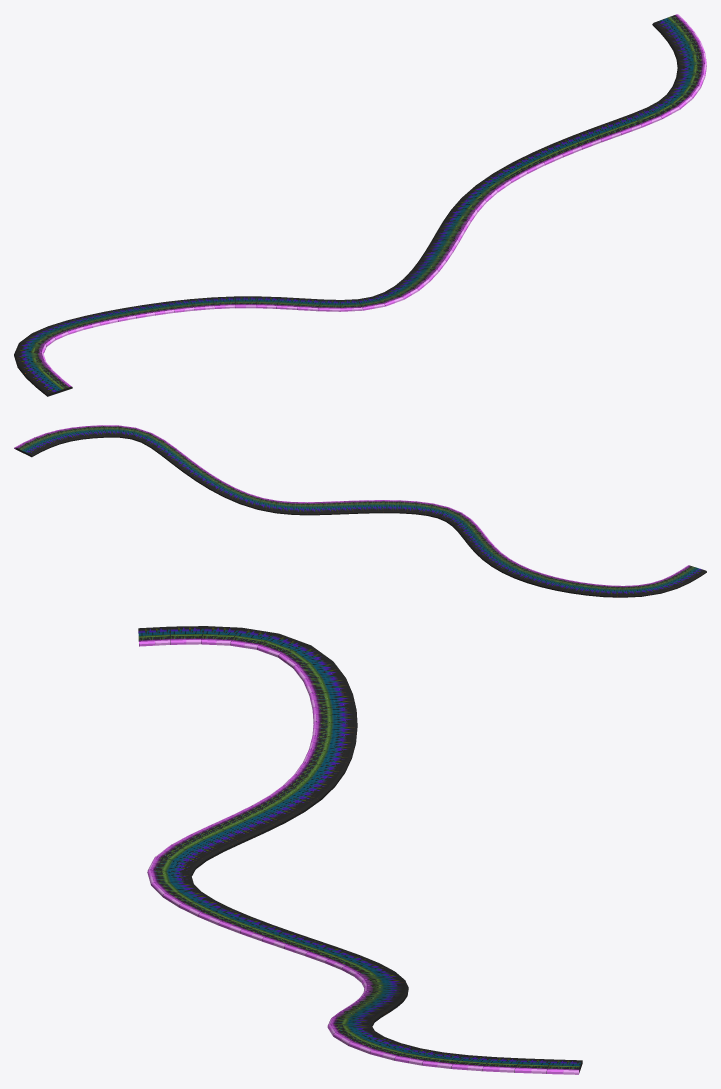
File: premiere_cels.glb
The picture shows the model from 3 angles, top to bottom: view 1: azimuth 30°, elevation 25°; view 2: azimuth 150°, elevation 25°; view 3: azimuth 270°, elevation 25°; orthographic projection. The views are drawn at different scales.
Visible parts, largest first — view 1: Plane; view 2: Plane; view 3: Plane.
Part boxes in pixels (x1,y1,x2,y2): Plane: [14, 14, 706, 396]; Plane: [14, 425, 706, 597]; Plane: [138, 626, 582, 1074].
Size of the model in its own units: 189 by 20.59 by 62.53.
1 material, 1 textured.
